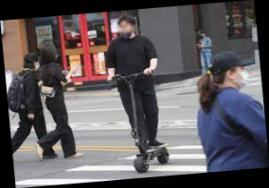nonhelmet: (101, 12, 173, 175)
